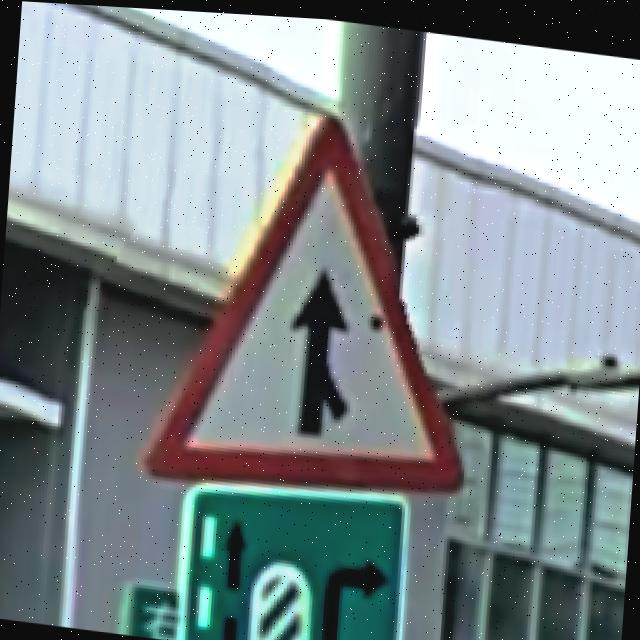rightmerge: (144, 113, 466, 491)
